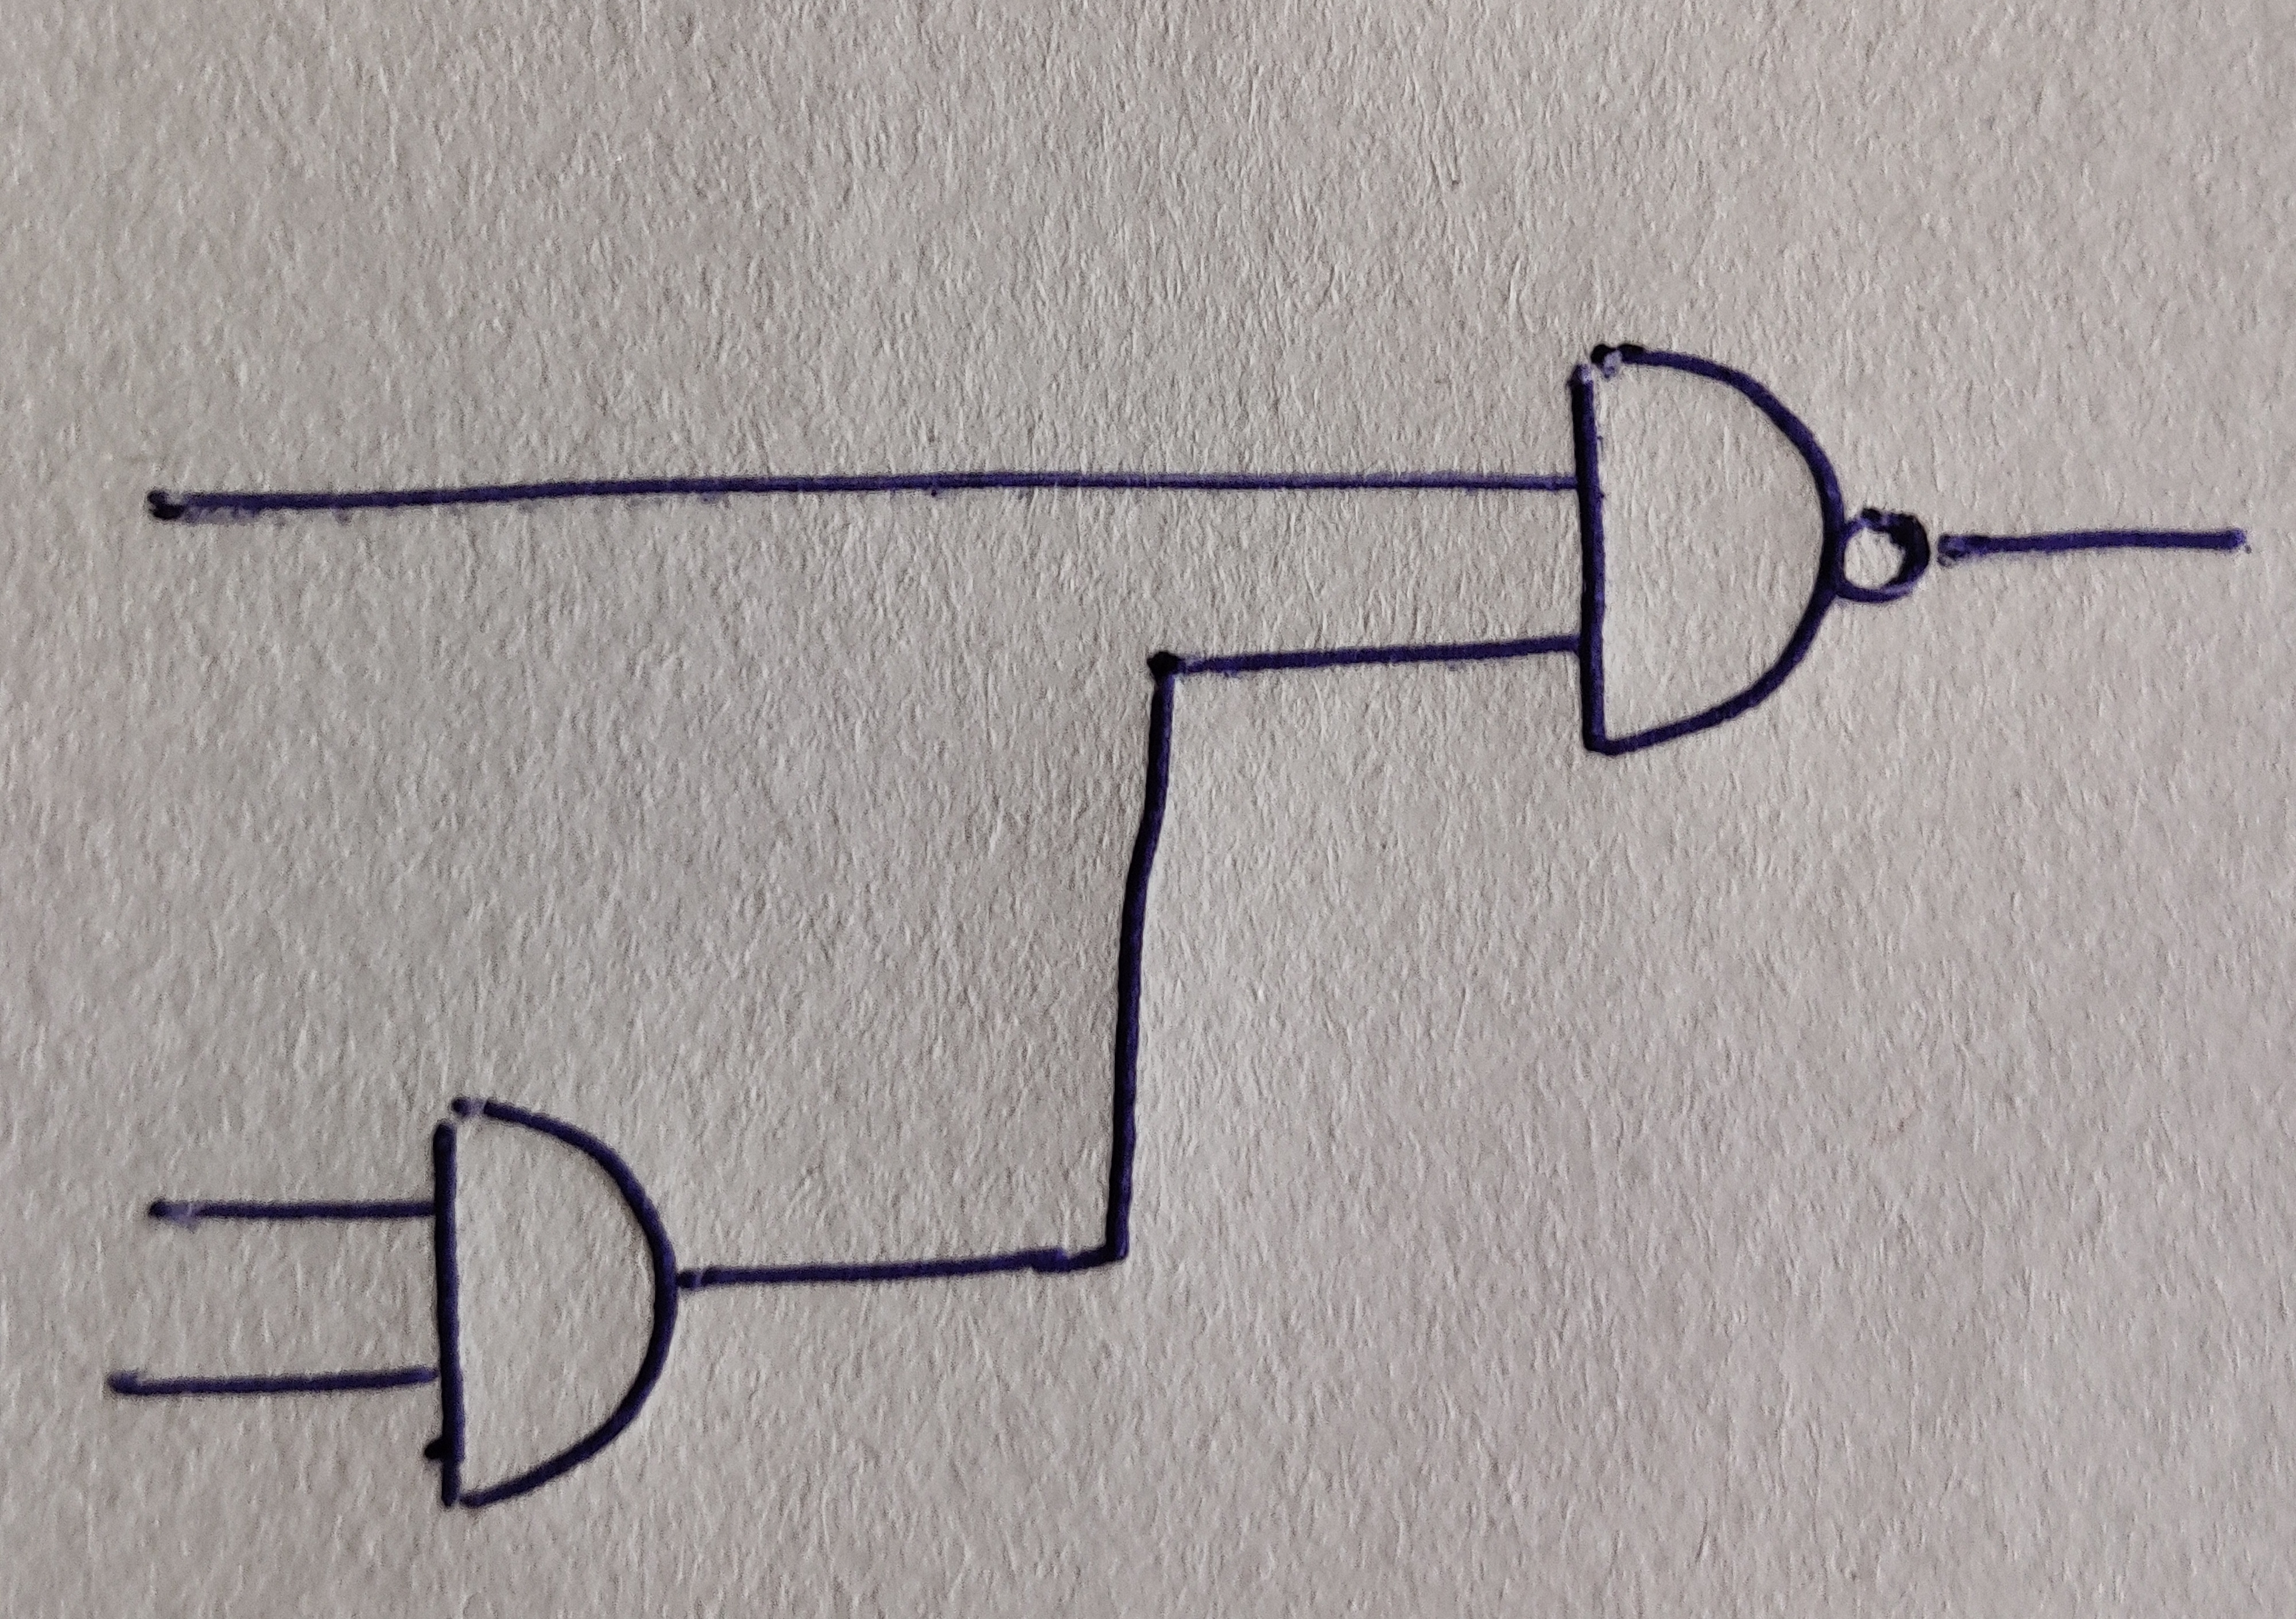and: (1569, 345, 1846, 755), (424, 1095, 678, 1510)
not: (1833, 508, 1931, 604)
